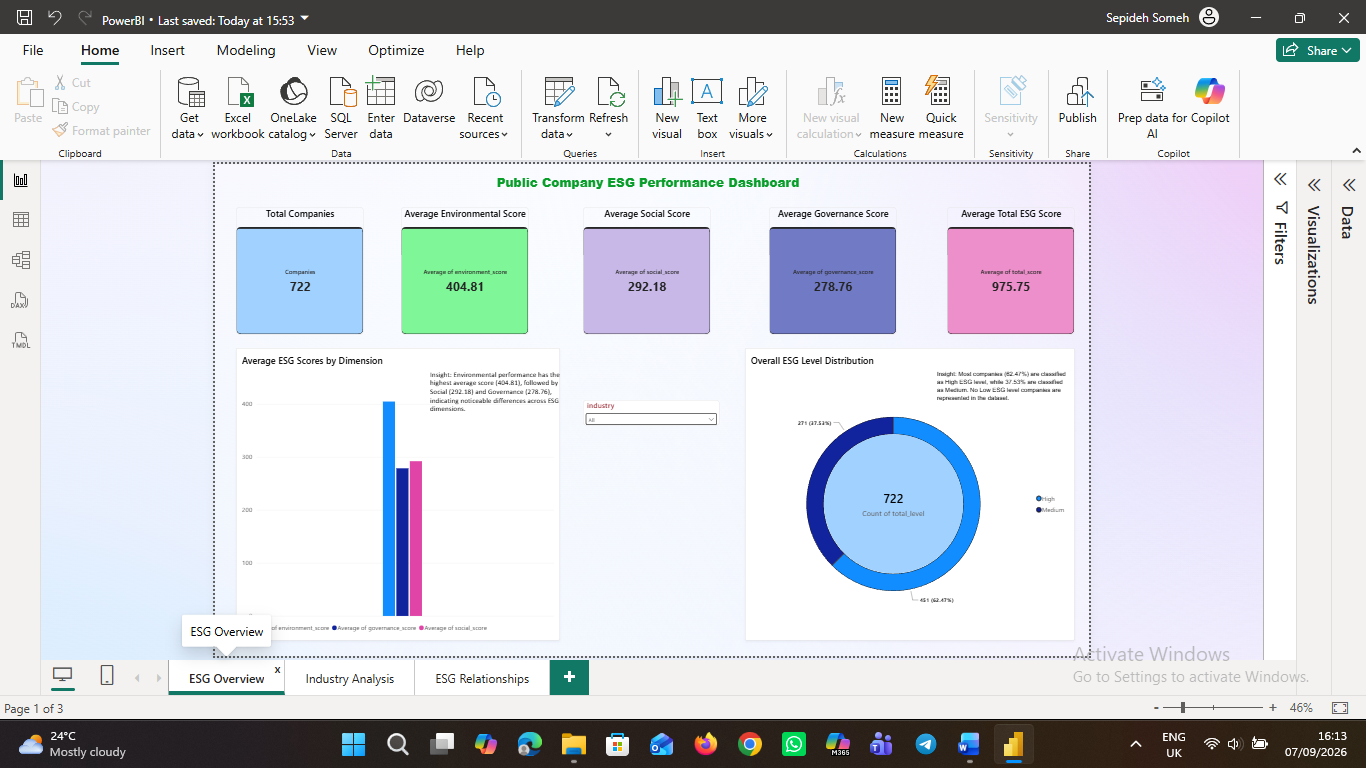

This screenshot's page, from the dashboard's own definition file:
{"tool":"powerbi","page":{"name":"ESG Overview","canvas":[1920,1080],"ordinal":0},"visuals":[{"type":"cardVisual","title":"Total Companies","fields":{"Data":["Count(esg_cleaned.name)"]},"box":[45.4,95,280,280],"z":0},{"type":"cardVisual","title":"Average Environmental Score","fields":{"Data":["Avg(esg_cleaned.environment_score)"]},"box":[408.2,95,280,280],"z":1},{"type":"cardVisual","title":"Average Social Score","fields":{"Data":["Avg(esg_cleaned.social_score)"]},"box":[807.8,95,280,280],"z":2},{"type":"cardVisual","title":"Average Governance Score","fields":{"Data":["Avg(esg_cleaned.governance_score)"]},"box":[1216.1,95,280,280],"z":3},{"type":"cardVisual","title":"Average Total ESG Score","fields":{"Data":["Avg(esg_cleaned.total_score)"]},"box":[1607,95,280,280],"z":4},{"type":"textbox","box":[617.8,21.6,667.4,56.2],"z":5},{"type":"clusteredColumnChart","title":"Average ESG Scores by Dimension","fields":{"Y":["Avg(esg_cleaned.environment_score)","Avg(esg_cleaned.governance_score)","Avg(esg_cleaned.social_score)"]},"box":[45.4,403.9,710.6,641.5],"z":6},{"type":"textbox","box":[470.9,451.4,291.6,95],"z":7},{"type":"donutChart","title":"Overall ESG Level Distribution","fields":{"Category":["esg_cleaned.total_level"],"Y":["CountNonNull(esg_cleaned.total_level)"]},"box":[1164.2,403.9,723.6,641.5],"z":8},{"type":"textbox","box":[1585.4,451.4,285.1,95],"z":9},{"type":"slicer","fields":{"Values":["esg_cleaned.industry"]},"box":[807.8,518.4,300.2,56.2],"z":10}]}

Visuals, with their boxes on the page's 1920x1080 design canvas (x1, y1, x2, y2). These are canvas units, not pixel positions in the 1366x768 screenshot, which may show the page scaled, cropped or inside an application window:
"Total Companies" cardVisual: <box>45,95,325,375</box>
"Average Environmental Score" cardVisual: <box>408,95,688,375</box>
"Average Social Score" cardVisual: <box>808,95,1088,375</box>
"Average Governance Score" cardVisual: <box>1216,95,1496,375</box>
"Average Total ESG Score" cardVisual: <box>1607,95,1887,375</box>
textbox: <box>618,22,1285,78</box>
"Average ESG Scores by Dimension" clusteredColumnChart: <box>45,404,756,1045</box>
textbox: <box>471,451,762,546</box>
"Overall ESG Level Distribution" donutChart: <box>1164,404,1888,1045</box>
textbox: <box>1585,451,1870,546</box>
slicer - esg_cleaned.industry: <box>808,518,1108,575</box>
